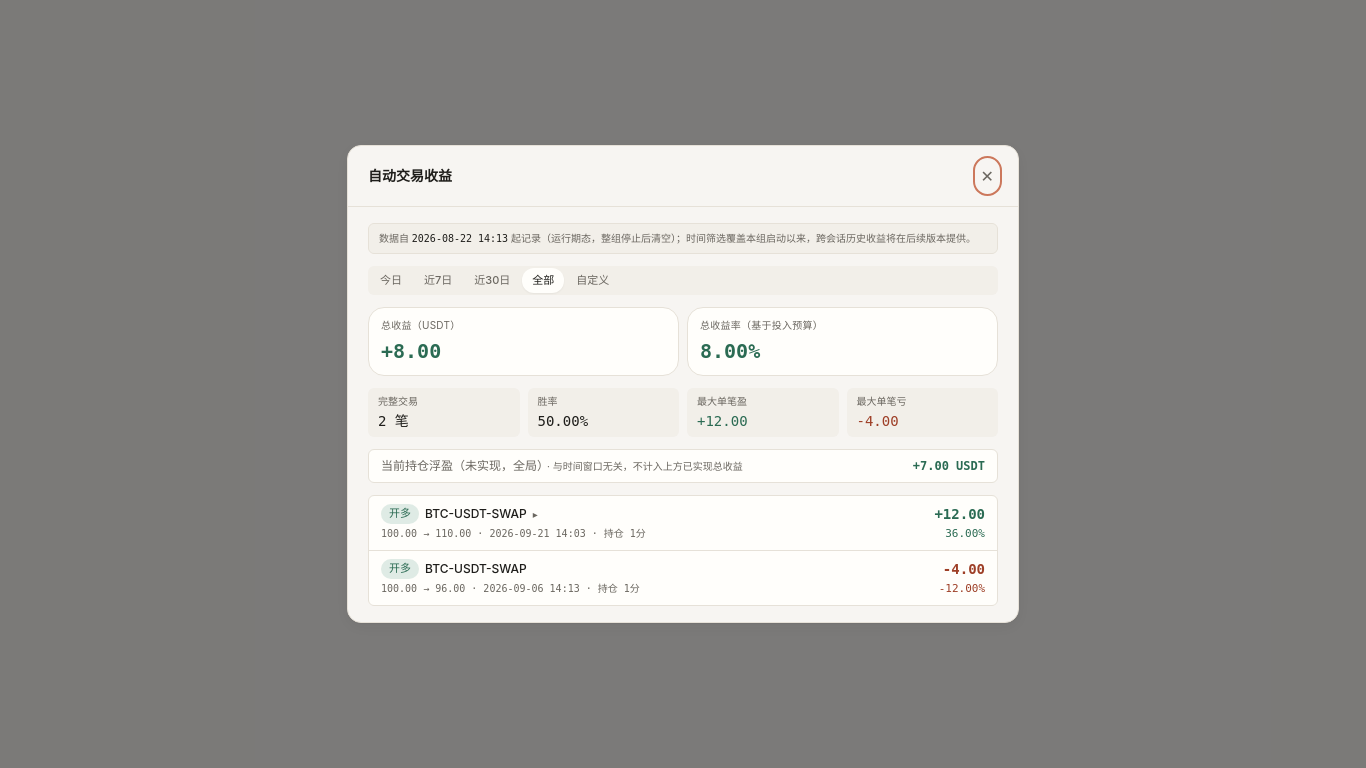
Test: AutoTradePnlPanel › shows an earlier-than-start hint for a custom window before the group started
Click the button "自定义" at (593, 281), box x1=566 y1=268 x2=619 y2=293
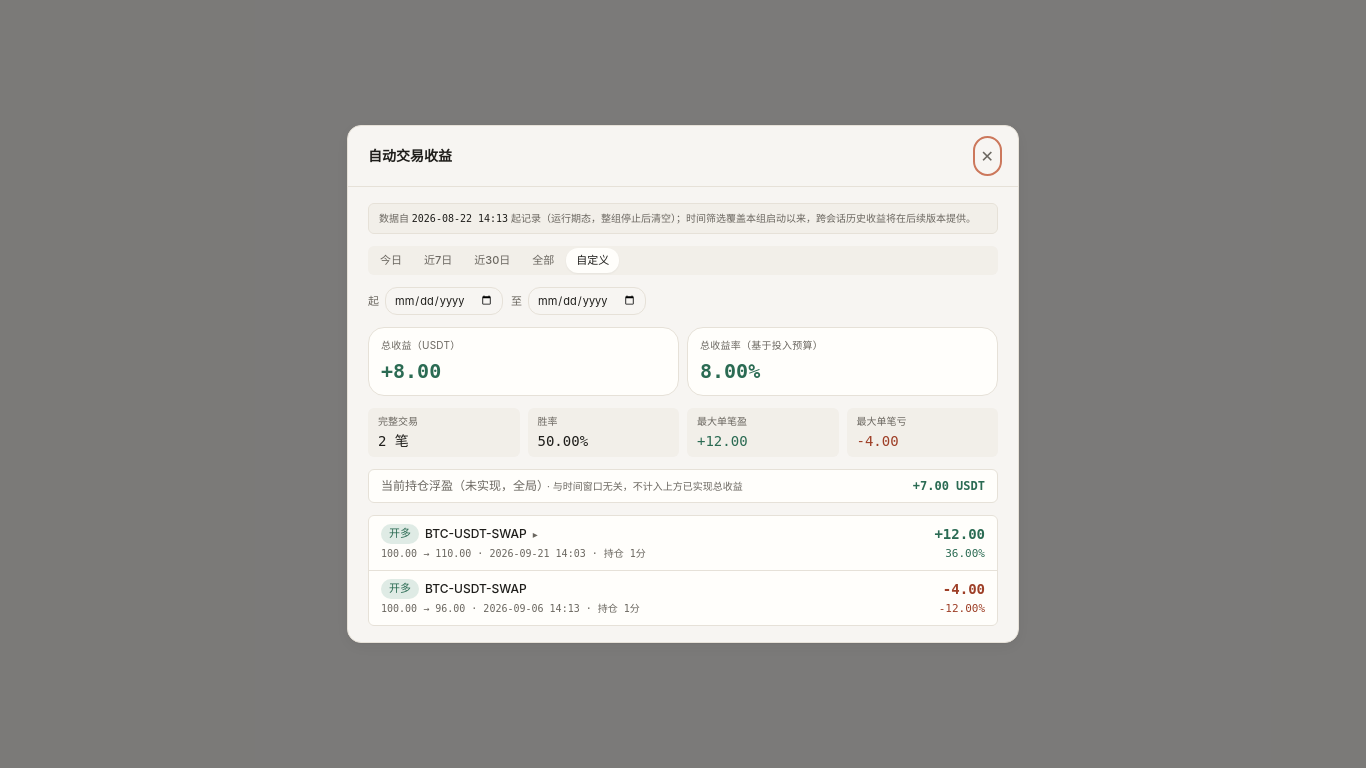
Type "2000-01-01" into the date field named "自定义起始日期" at (444, 301), box x1=385 y1=287 x2=503 y2=315
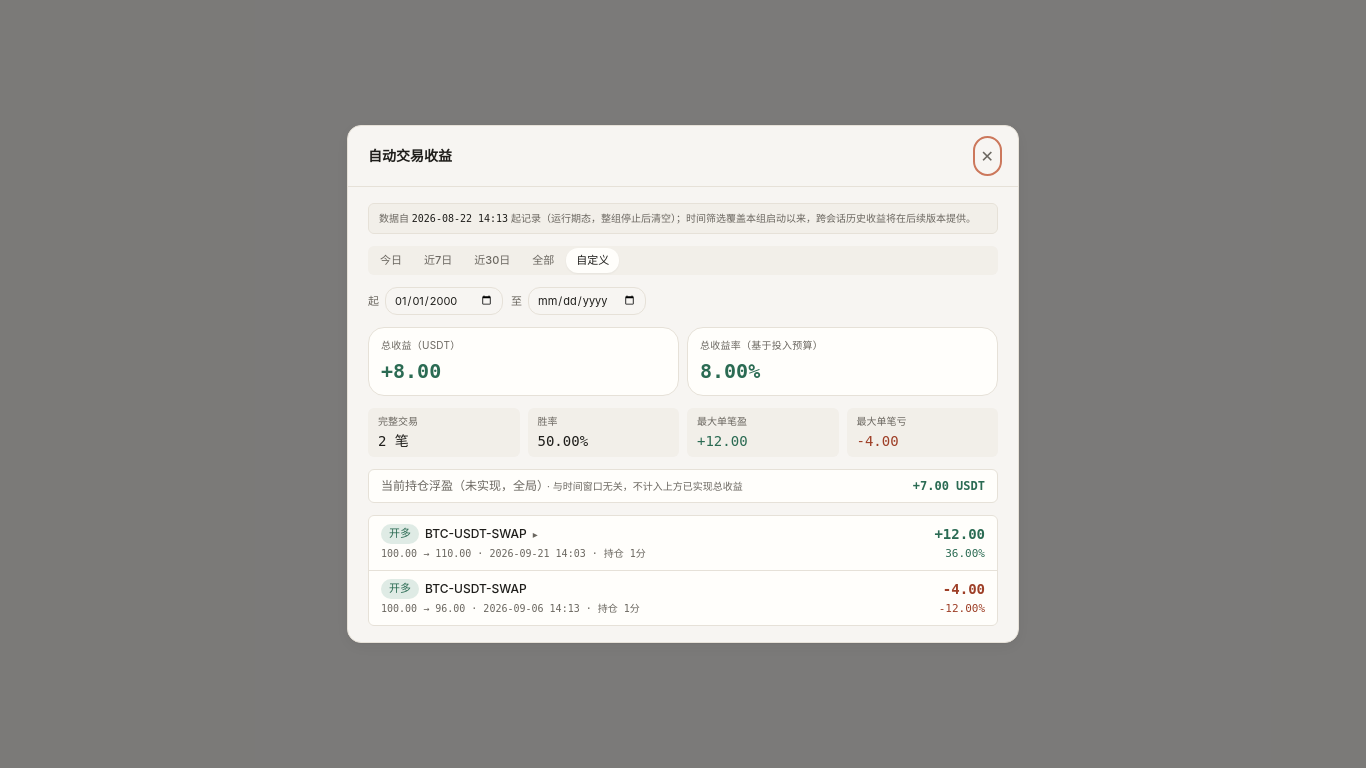
Type "2000-12-31" into the date field named "自定义结束日期" at (587, 301), box x1=528 y1=287 x2=646 y2=315
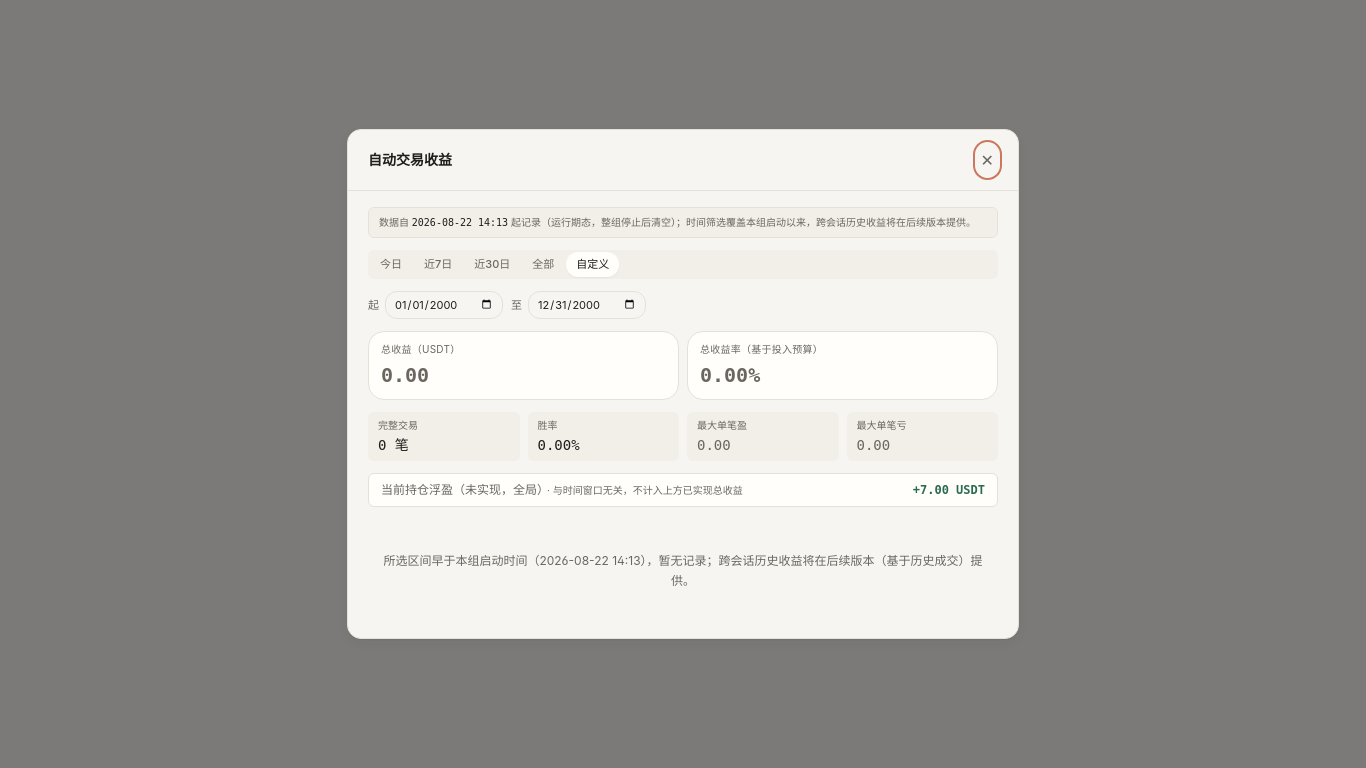
Check: the text "所选区间早于本组启动时间（2026-08-22 14:13），暂无记录；跨会话历史收益将在后续版本（基于历史成交）提供。" is shown, box x1=383 y1=553 x2=983 y2=588
